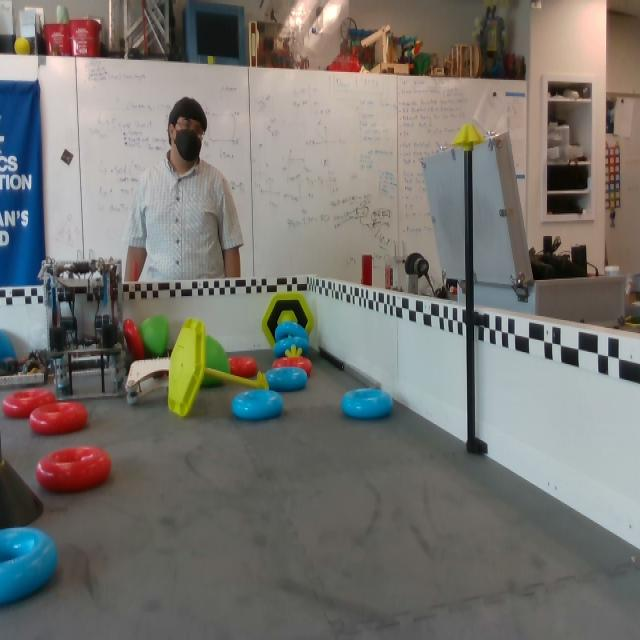Blue-Ring: (2, 529, 59, 606), (230, 391, 284, 422), (341, 390, 393, 421), (267, 367, 307, 391), (270, 335, 306, 358), (273, 321, 307, 340)
Mobile-Goal: (167, 319, 274, 417), (259, 292, 314, 360)
Red-Ring: (34, 447, 112, 496), (29, 403, 89, 436), (2, 389, 55, 417), (122, 316, 147, 362), (274, 358, 314, 375), (229, 355, 258, 376)
Yellow-Stake-Head: (452, 124, 485, 146)
